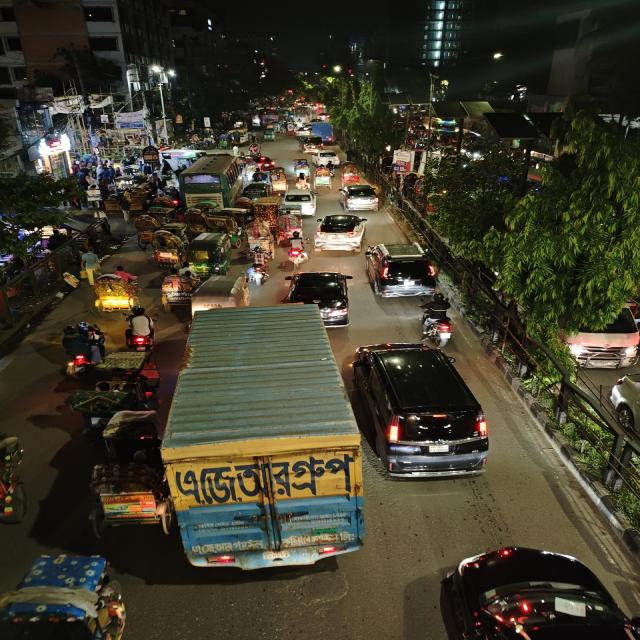bus: (177, 153, 243, 204)
car: (426, 540, 639, 640), (352, 341, 497, 481), (557, 295, 640, 370), (362, 241, 440, 300), (282, 270, 356, 323), (312, 212, 370, 253), (336, 183, 384, 211), (280, 189, 320, 215), (311, 150, 340, 166)
cng: (187, 231, 234, 275), (300, 136, 324, 154)
motorcycle: (54, 321, 108, 379), (417, 291, 458, 345), (123, 307, 157, 351), (244, 246, 274, 284), (284, 234, 311, 268), (247, 141, 264, 157)
pedestrian: (78, 248, 101, 283)
rickshaw: (0, 551, 136, 640), (82, 459, 172, 536), (86, 268, 144, 318), (155, 266, 200, 312), (202, 206, 255, 240), (147, 230, 183, 268), (144, 194, 179, 225), (129, 215, 158, 250), (238, 183, 272, 208), (310, 162, 334, 188), (339, 162, 362, 185), (267, 166, 288, 191), (230, 131, 248, 147), (262, 128, 277, 142)
truck: (160, 306, 372, 576), (310, 121, 336, 141)
